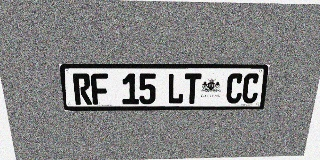1: (121, 73, 139, 104)
5: (139, 73, 156, 104)
C: (225, 73, 244, 103), (241, 73, 260, 103)
F: (90, 73, 109, 105)
L: (167, 73, 184, 104)
R: (72, 73, 92, 105)
T: (184, 73, 201, 104)
